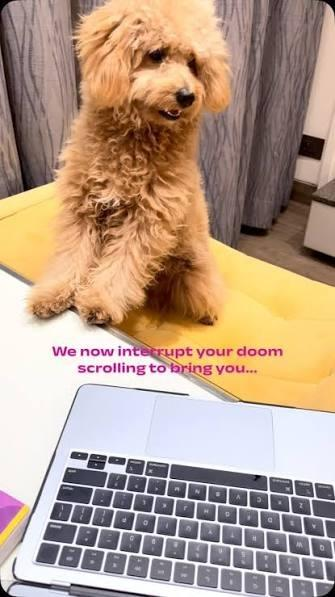puppy-dog: (28, 1, 235, 330)
